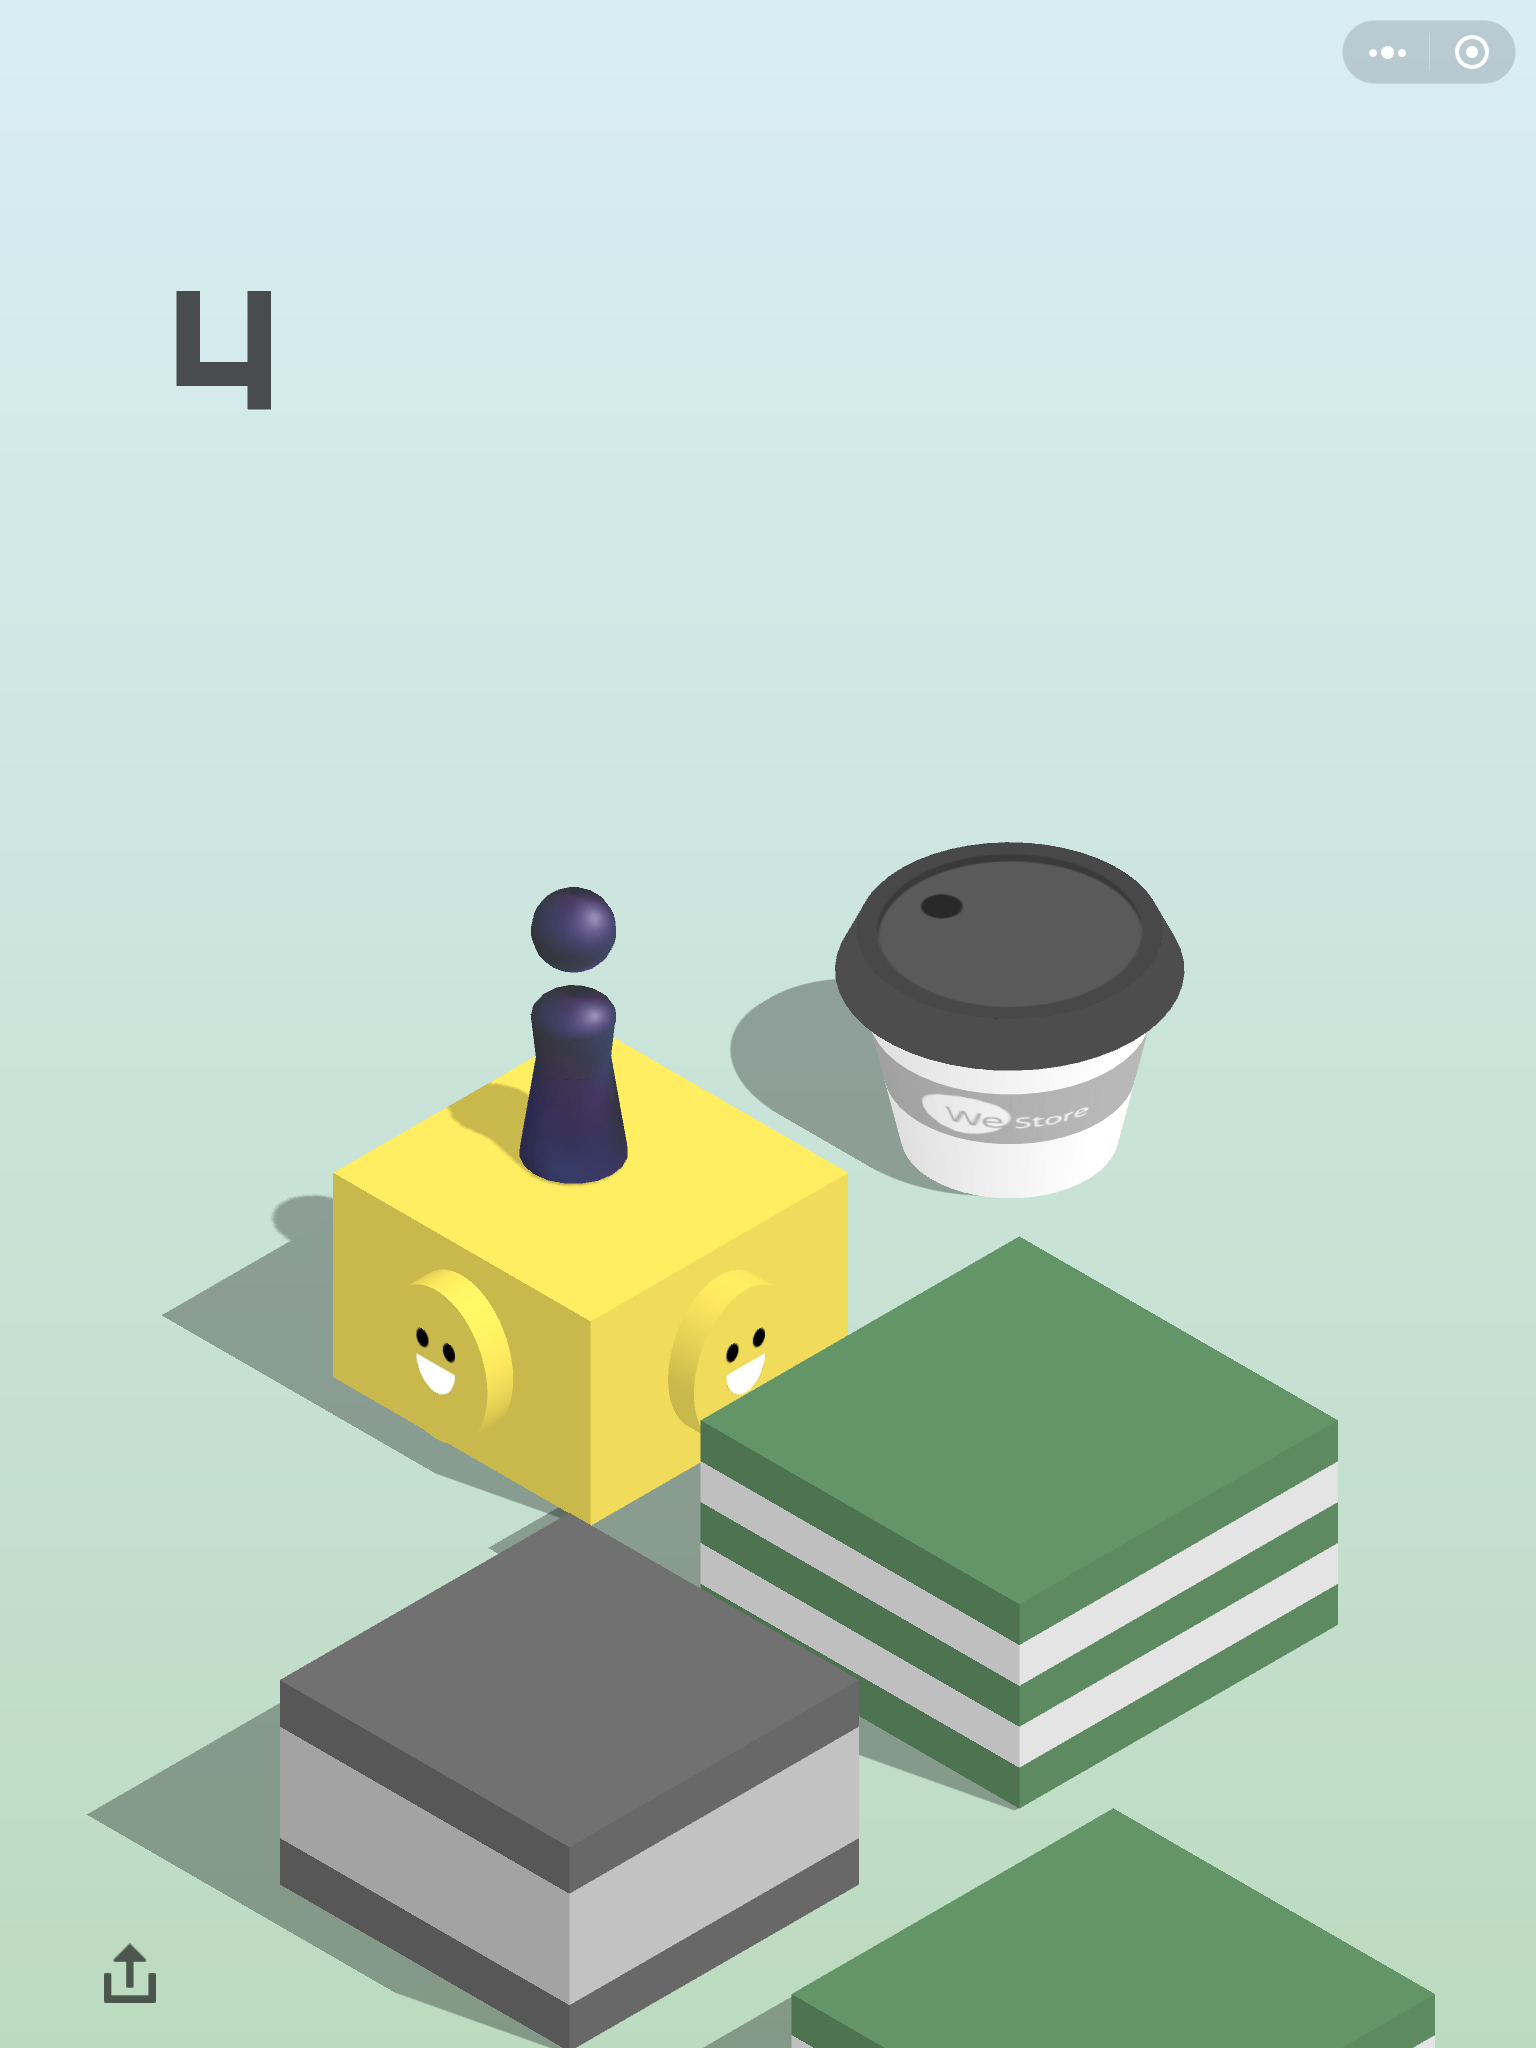c: (831, 834, 1196, 1208)
f: (694, 1230, 1346, 1814), (269, 1503, 870, 2048), (323, 1024, 858, 1534), (792, 1801, 1446, 2048)
r: (515, 884, 632, 1193)
